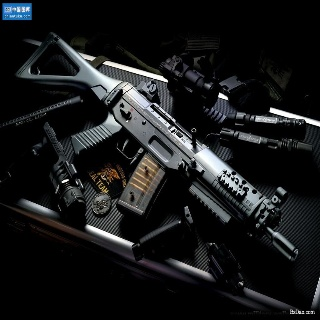rifle: (16, 31, 302, 262)
